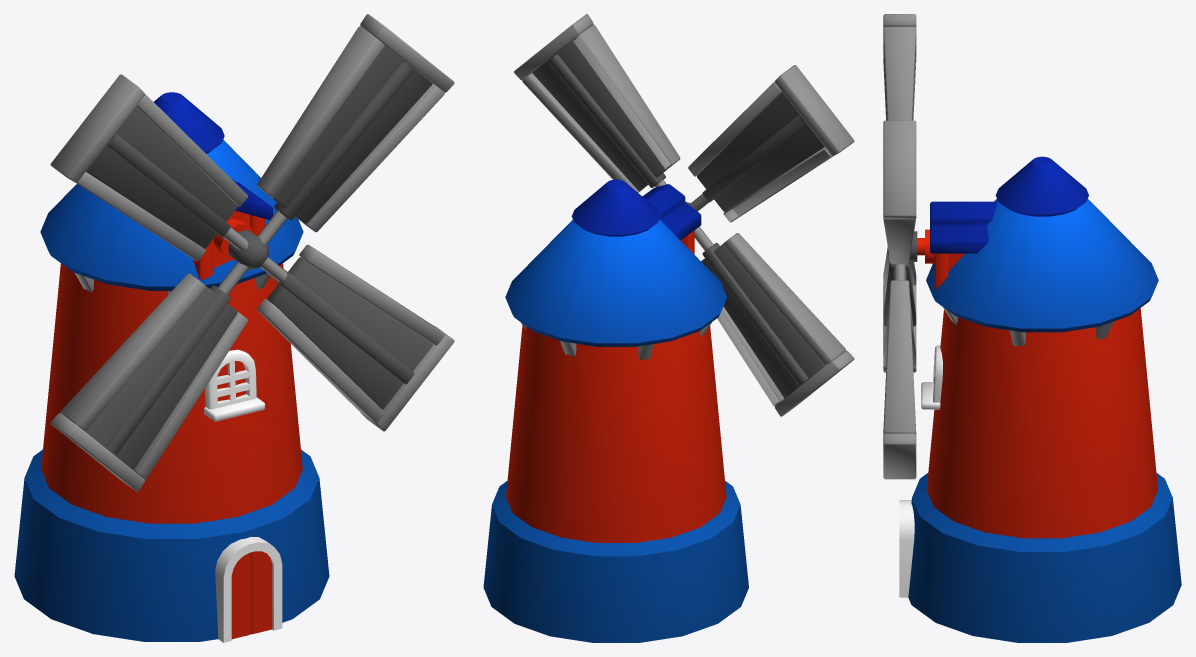
Rendered from Farm_House_Windmill_01.fbx.
3 renders of one model, left to right at view 1: azimuth 30°, elevation 25°; view 2: azimuth 150°, elevation 25°; view 3: azimuth 270°, elevation 25°, orthographic. The views are drawn at different scales.
Parts seen in each view (by area): view 1: Farm_House_Windmill_01, Farm_House_Windmill_01_Blade; view 2: Farm_House_Windmill_01, Farm_House_Windmill_01_Blade; view 3: Farm_House_Windmill_01, Farm_House_Windmill_01_Blade.
Boxes of the visible parts, box(x1,y1,x2,y2) form: Farm_House_Windmill_01: box(14, 92, 329, 642); Farm_House_Windmill_01_Blade: box(50, 14, 454, 491); Farm_House_Windmill_01: box(483, 179, 748, 642); Farm_House_Windmill_01_Blade: box(514, 14, 854, 416); Farm_House_Windmill_01: box(899, 156, 1181, 642); Farm_House_Windmill_01_Blade: box(883, 14, 917, 479).
Size of the model in its own units: 959 by 1386 by 725.
